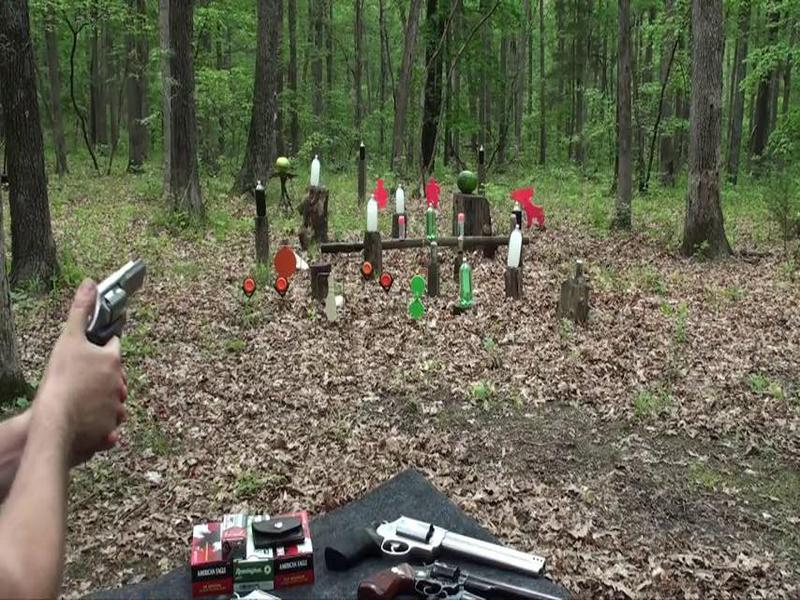Revolver: (69, 245, 163, 378)
